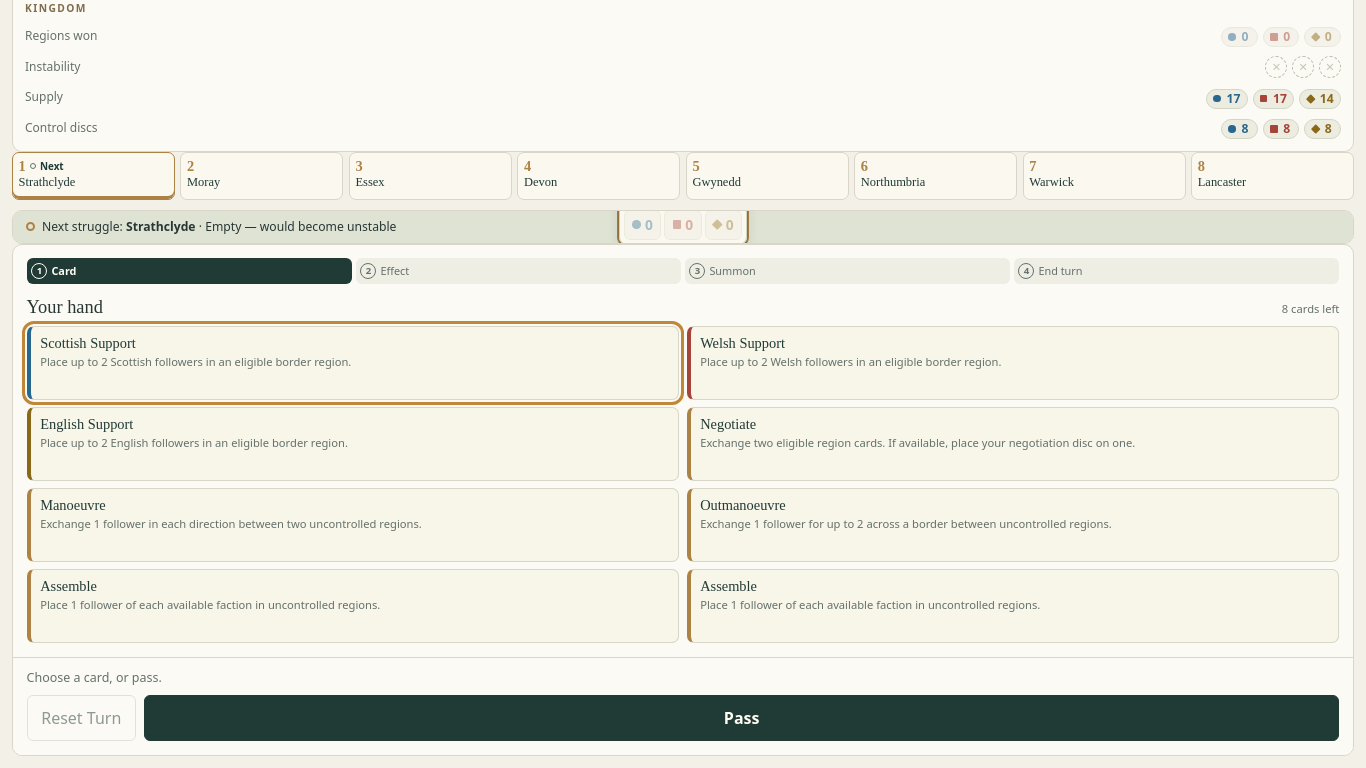
Scenario: hotseat game UI › offers explicit zero summons on an empty uncontrolled board
The image size is (1366, 768).
(page scrolled)
Click the button named "Play Manoeuvre" at point(353, 525), box 27,488 -> 679,562
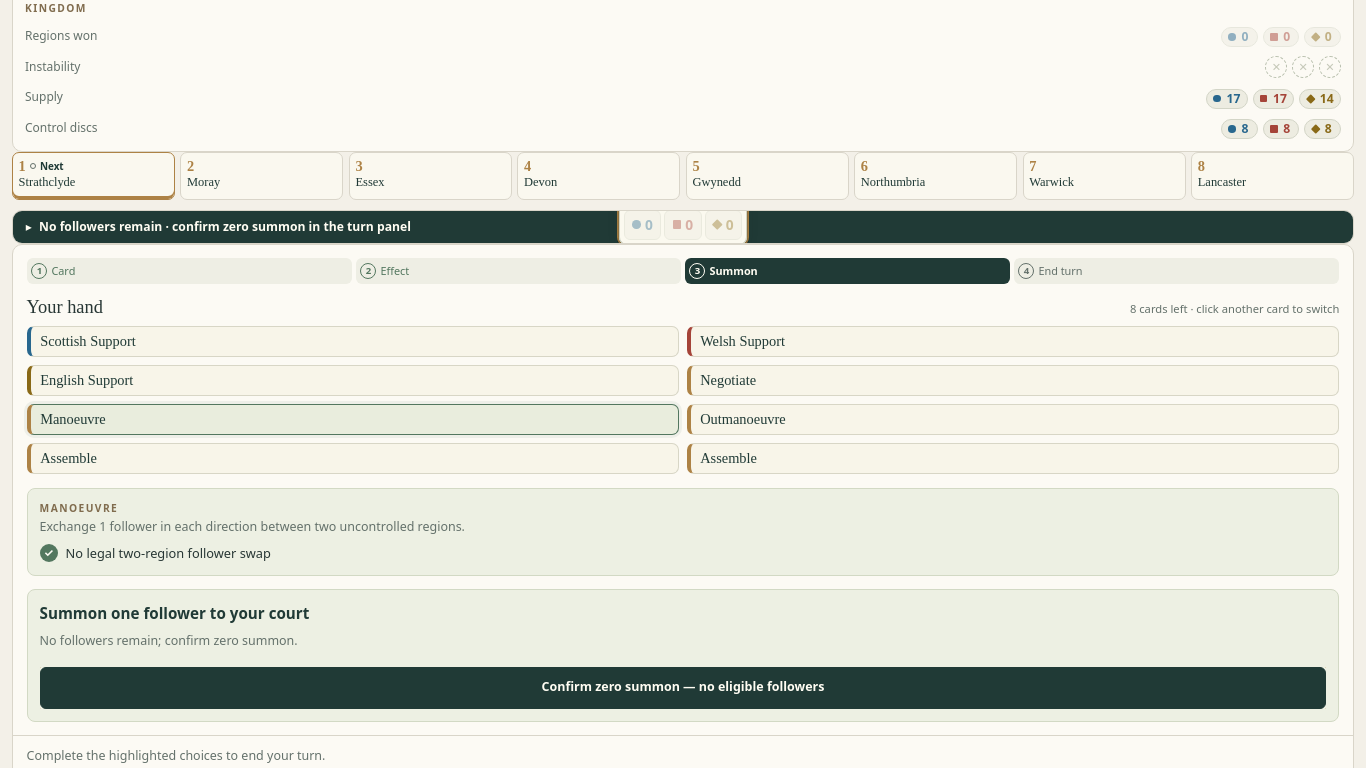
Click the button "Confirm zero summon — no eligible followers" at point(683, 688), box 40,666 -> 1326,708
(page scrolled)
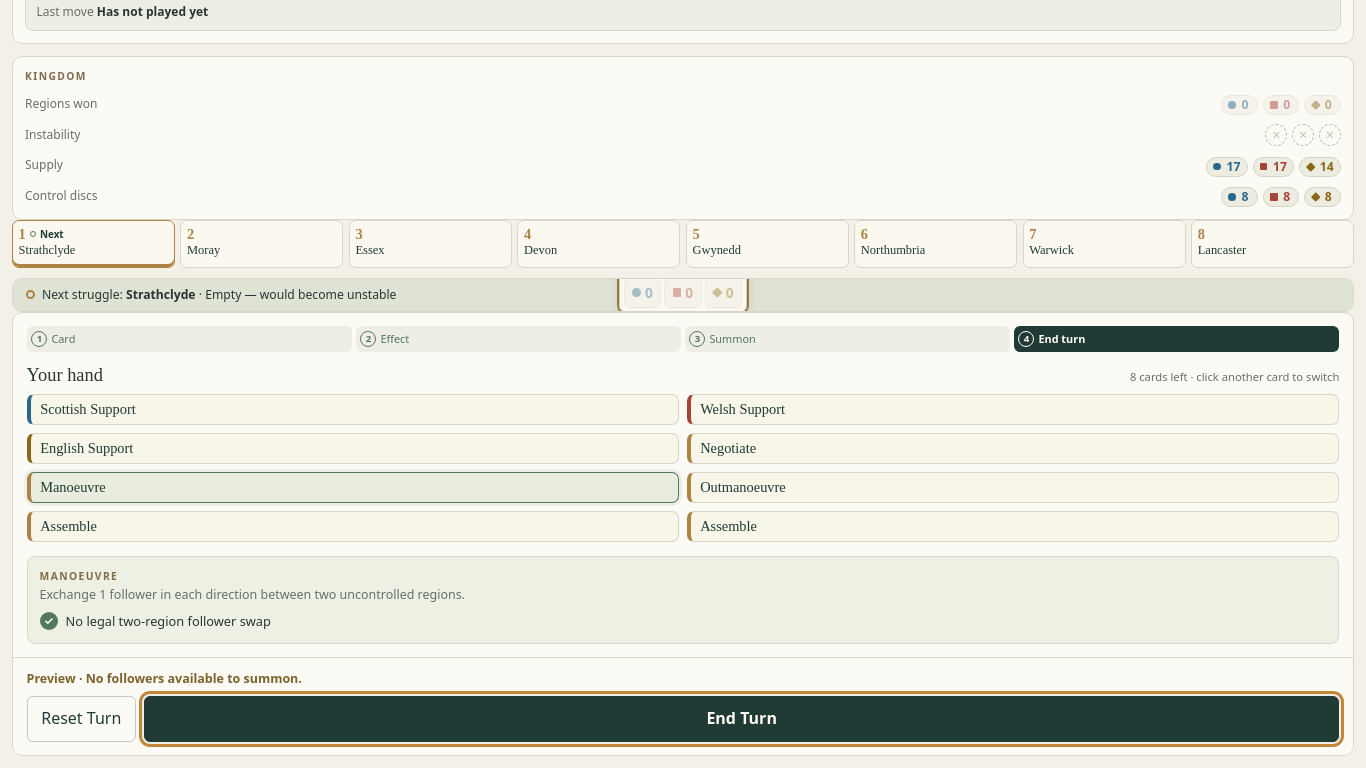
Expected: the message named "Turn preview" shows "No followers available to summon", 27,670 -> 302,687
Click the button "End Turn" at point(742, 719), box 144,696 -> 1339,742
(page scrolled)
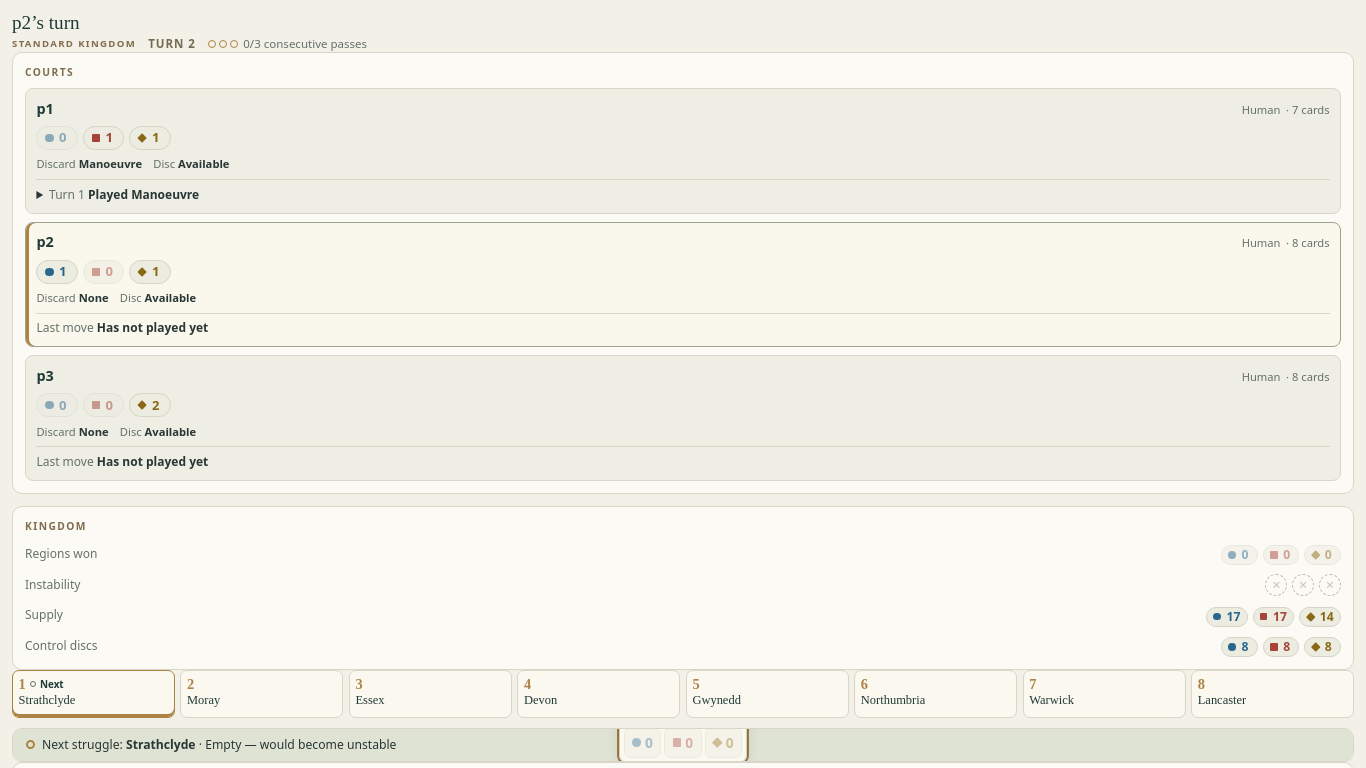
Expected: the text "TURN 2" is shown, 148,36 -> 196,52
